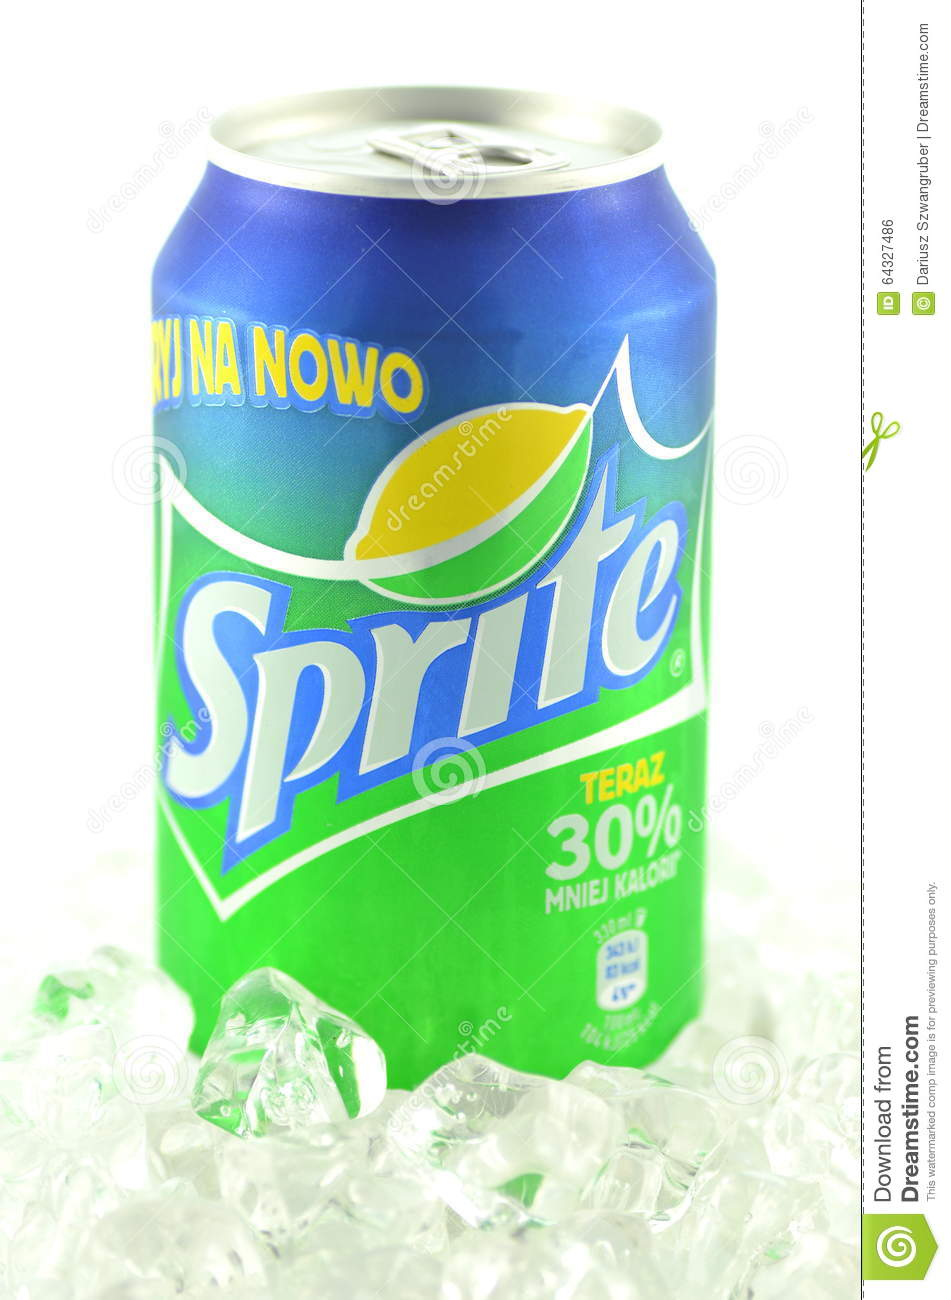sprite: (155, 463, 680, 844)
